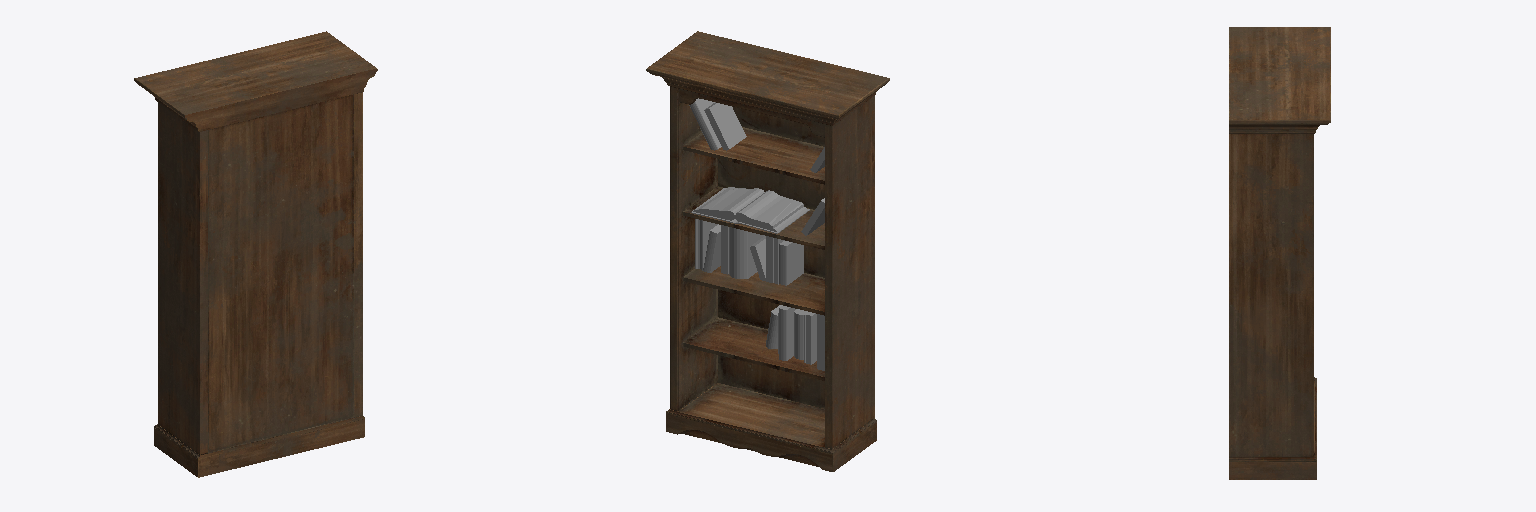
The picture shows the model from 3 angles: view 1: azimuth 30°, elevation 25°; view 2: azimuth 150°, elevation 25°; view 3: azimuth 270°, elevation 25°; orthographic projection.
Visible parts, largest first — view 1: SM_Bookcase_02_Combo; view 2: SM_Bookcase_02_Combo; view 3: SM_Bookcase_02_Combo.
Boxes of the visible parts, box(x1,y1,x2,y2) form: SM_Bookcase_02_Combo: box(134, 31, 377, 477); SM_Bookcase_02_Combo: box(646, 31, 889, 471); SM_Bookcase_02_Combo: box(1229, 27, 1330, 479).
Bounding box in the file's own units: 120 × 218 × 55.12.
Materials: 3 (1 with a texture image).